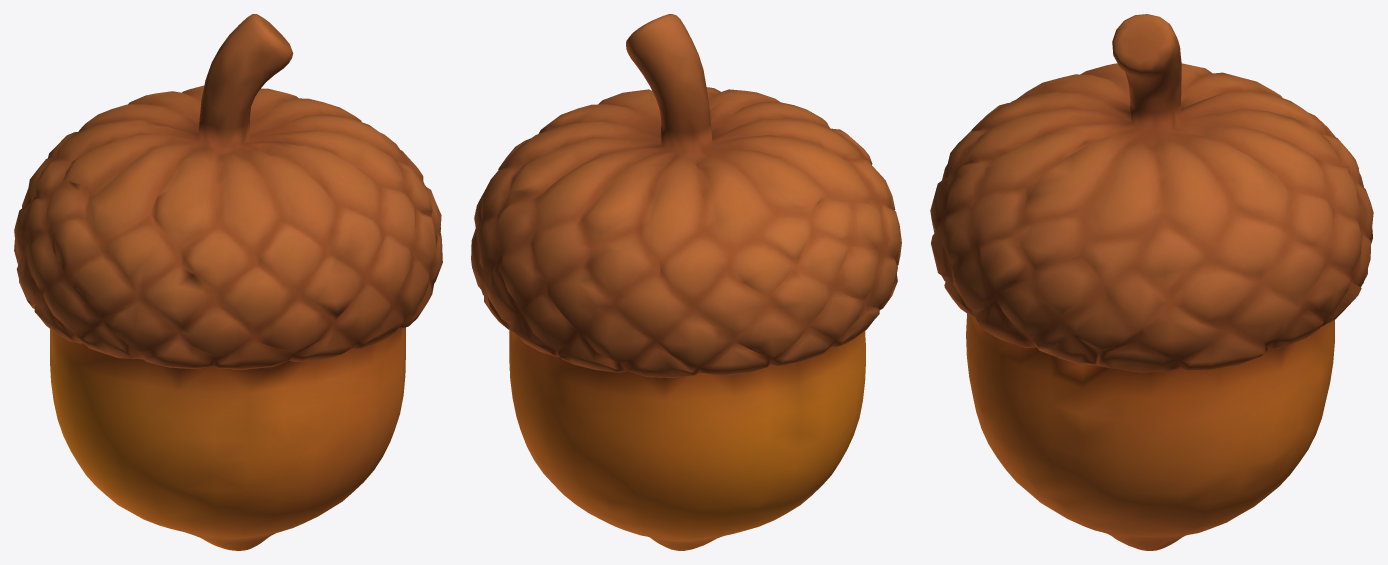
File: acorn_v2.glb
3 renders of one model, left to right at view 1: azimuth 30°, elevation 25°; view 2: azimuth 150°, elevation 25°; view 3: azimuth 270°, elevation 25°, orthographic. The views are drawn at different scales.
Parts seen in each view (by area): view 1: acorn_v2; view 2: acorn_v2; view 3: acorn_v2.
Part boxes in pixels (x1,y1,x2,y2): acorn_v2: [14, 14, 442, 550]; acorn_v2: [471, 14, 901, 550]; acorn_v2: [930, 14, 1373, 550].
Size of the model in its own units: 0.2626 by 0.35 by 0.2598.
Materials: 1 (1 with a texture image).
